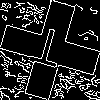T: (25, 25, 67, 77)
